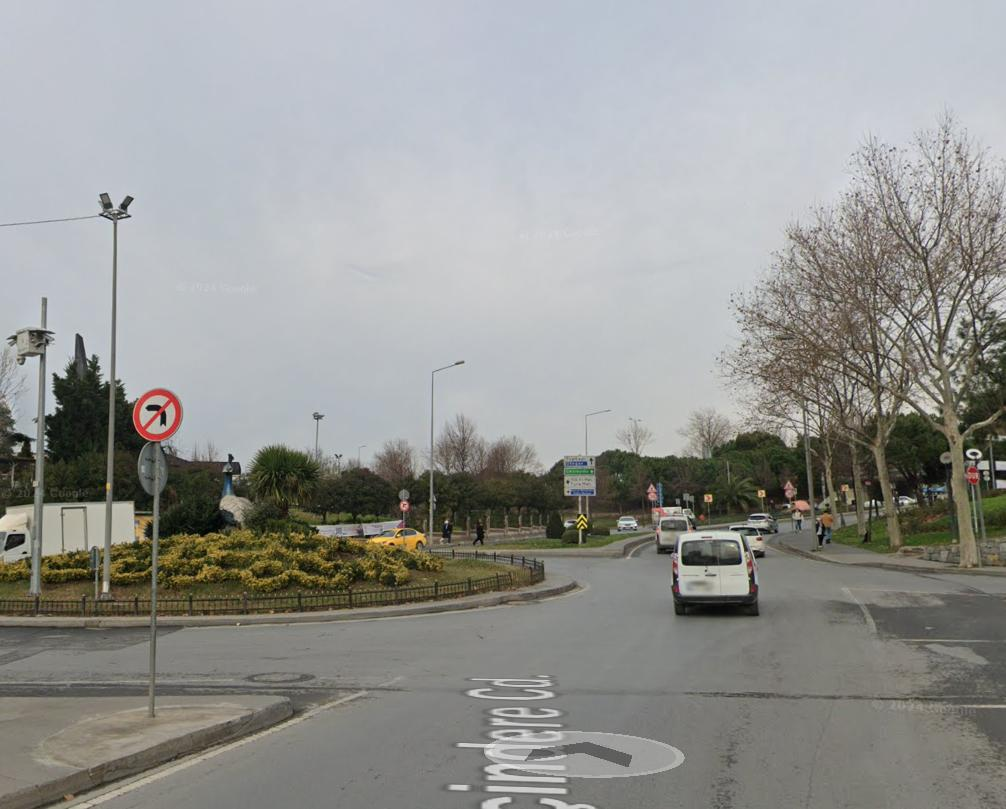leftturnsareforbidden: (136, 389, 179, 439)
stop: (966, 467, 980, 485)
